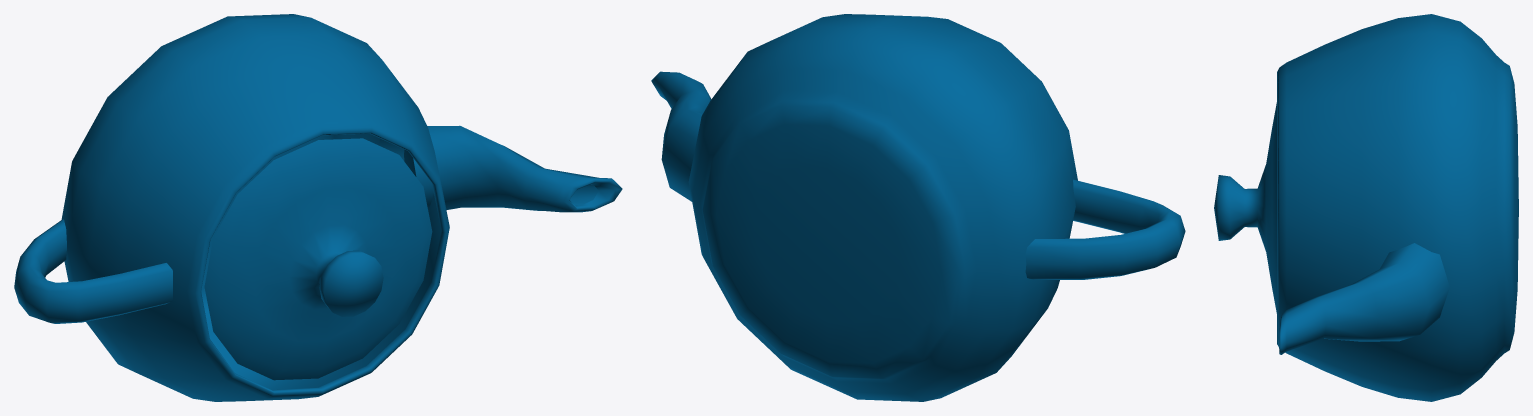
File: teapot_t.obj
3 views of the same model, side by side, from view 1: azimuth 30°, elevation 25°; view 2: azimuth 150°, elevation 25°; view 3: azimuth 270°, elevation 25° (orthographic). The views are drawn at different scales.
Visible parts, largest first — view 1: Teapot001; view 2: Teapot001; view 3: Teapot001.
Boxes of the visible parts, x1,y1,x2,y2 form: Teapot001: (14,14,622,401); Teapot001: (651,14,1185,401); Teapot001: (1214,14,1518,401).
Size of the model in its own units: 2.9 by 1.81 by 1.42.
